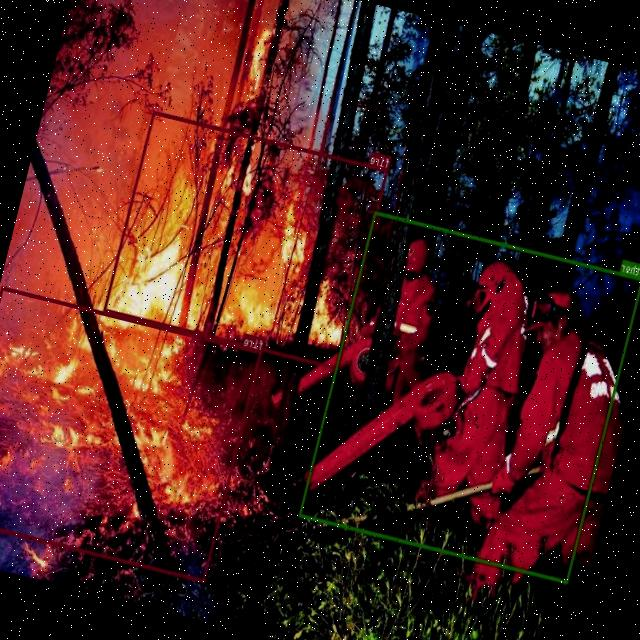fire: (0, 285, 262, 582), (102, 110, 388, 370)
